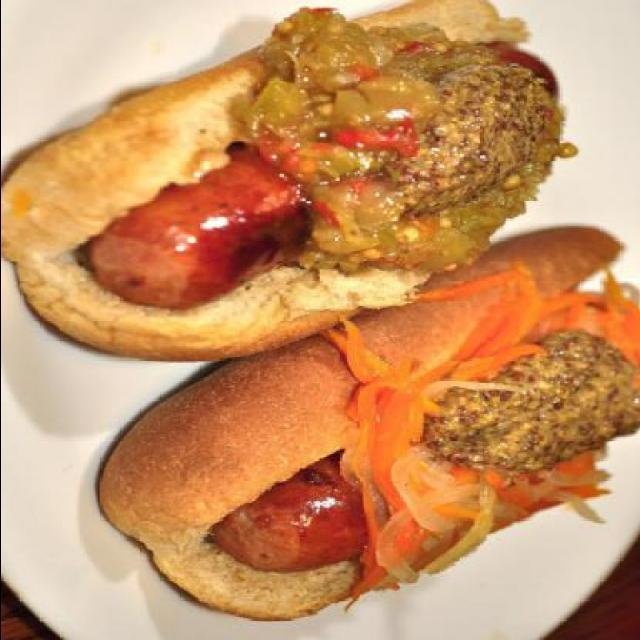Hot dog: (91, 224, 640, 626), (1, 0, 574, 363)
